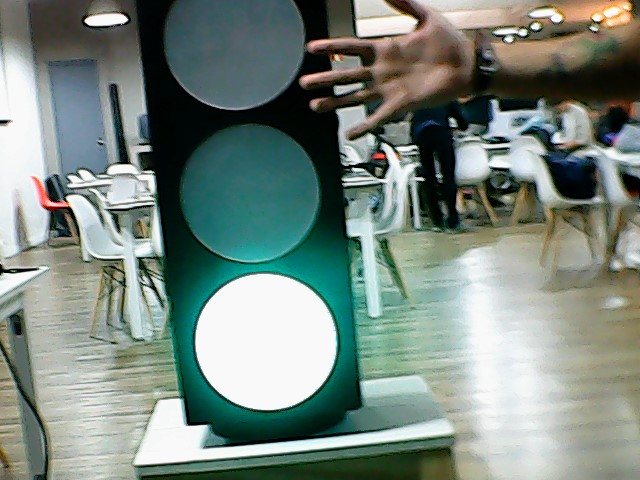verde: (133, 1, 373, 444)
